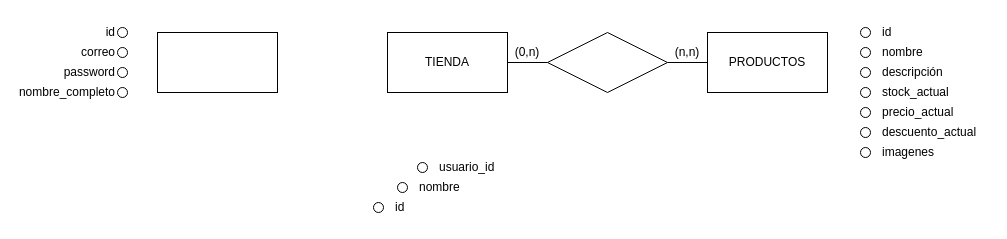
This 1007x239 diagram has some shape labels left out. The shapes that lost their labels are listed below. From the top down, each one's centre as x and y in pixels, then its label:
[217,62]: USUARIOS
[607,62]: tiene
